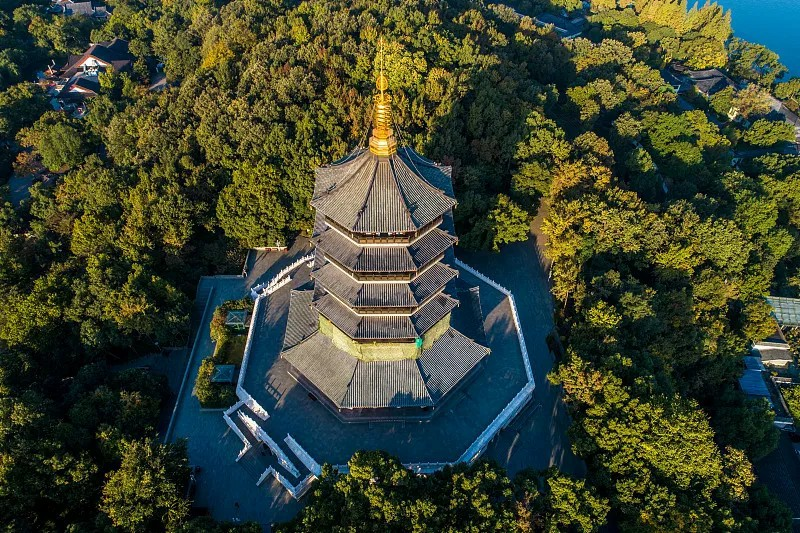Leifeng: (279, 34, 492, 423)
